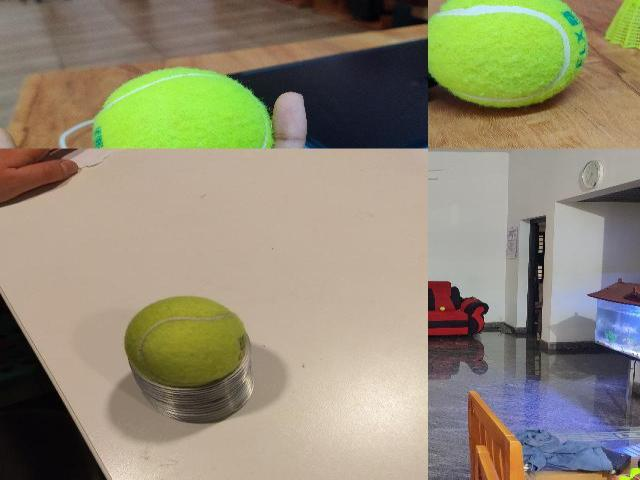tennis-ball: (428, 0, 587, 107), (93, 68, 272, 148), (123, 295, 247, 387), (440, 306, 444, 310)
